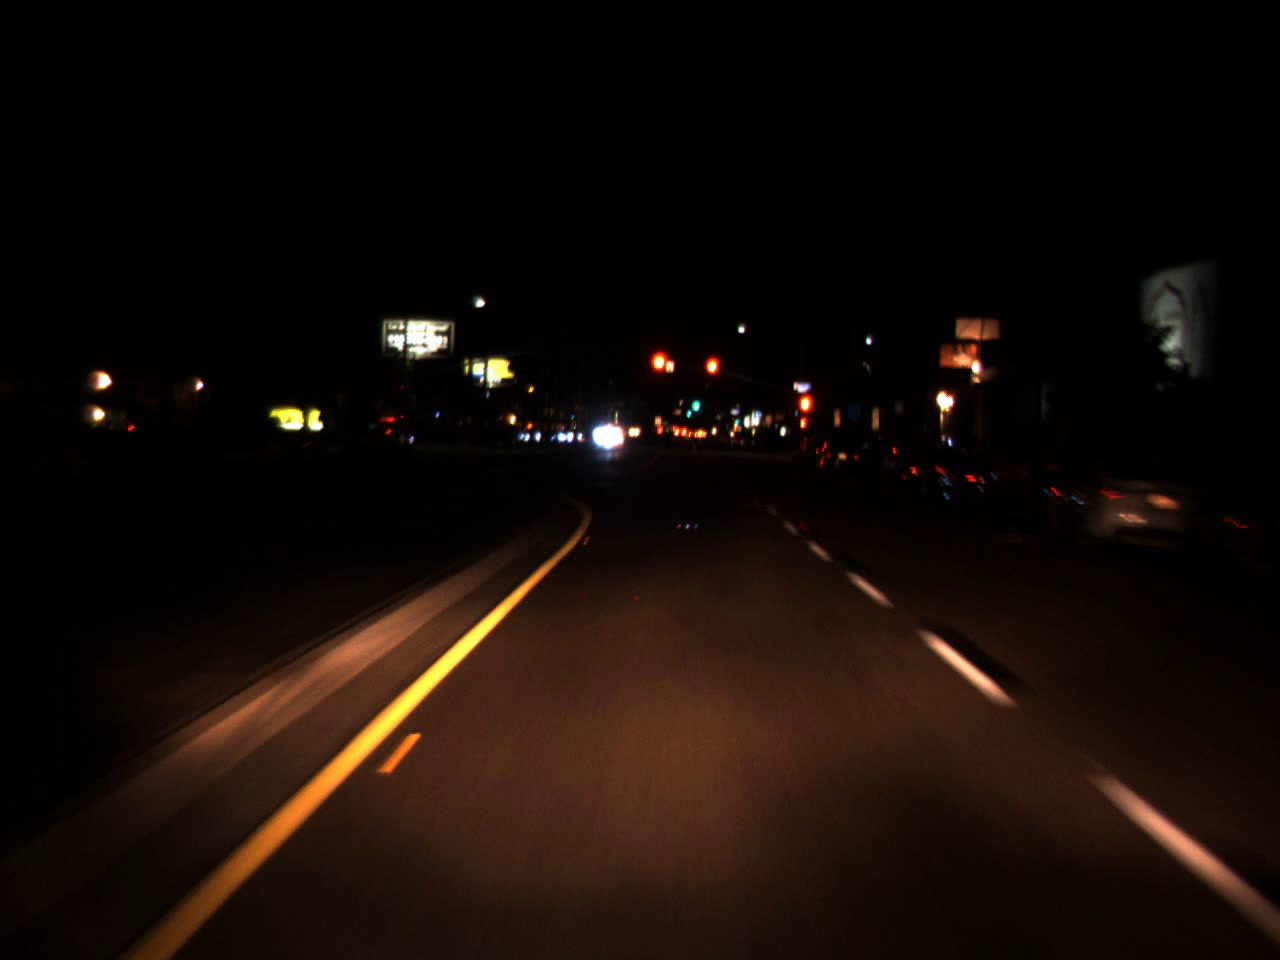go: (691, 395, 700, 413)
stop: (648, 347, 672, 398), (797, 390, 815, 435), (702, 354, 721, 397)
